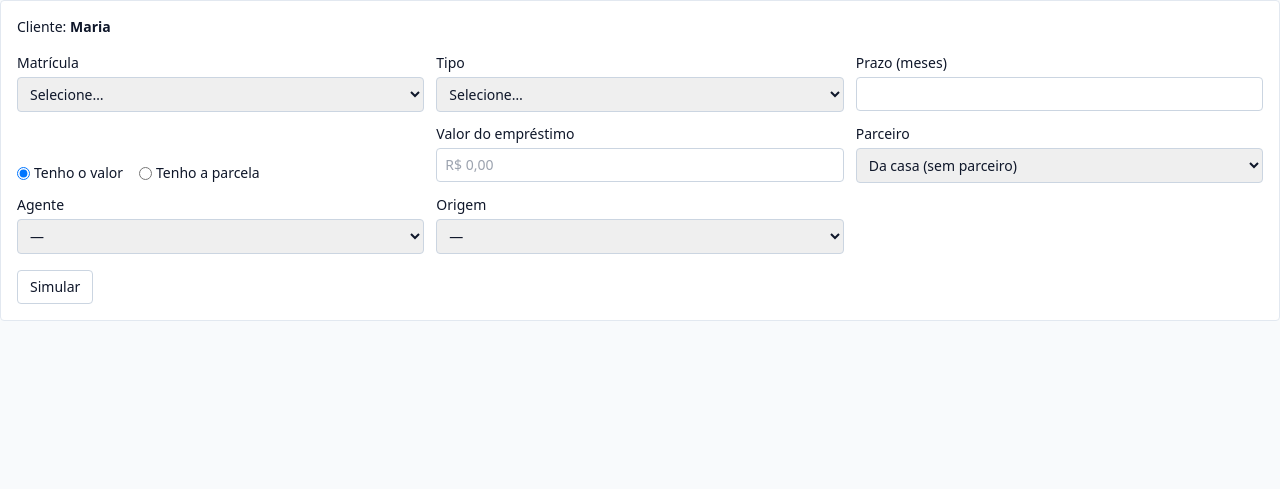
Test: DigitacaoForm › mostra líquido 600,00 para bruto 1.000,00 e quitação 400,00
The image size is (1280, 489).
Select "Governo do Acre · 123" in the dropdown labelled "Matrícula": [221, 94] box [17, 77, 424, 112]
Select "Refinanciamento" in the dropdown labelled "Tipo": [640, 94] box [436, 77, 844, 112]
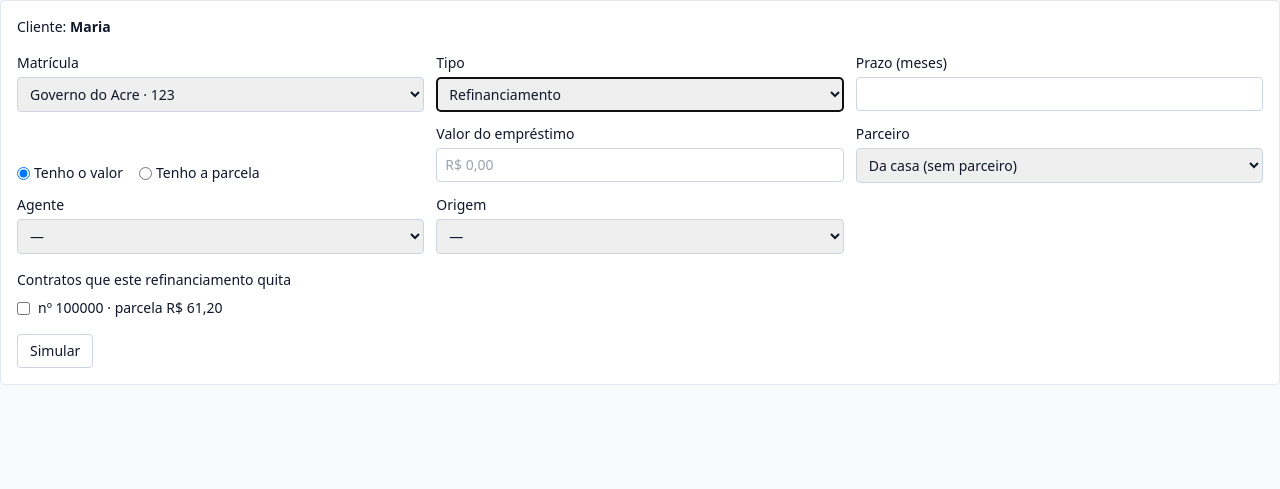
In the field labelled "Prazo (meses)": [1059, 94] box [856, 77, 1263, 111], type "24"
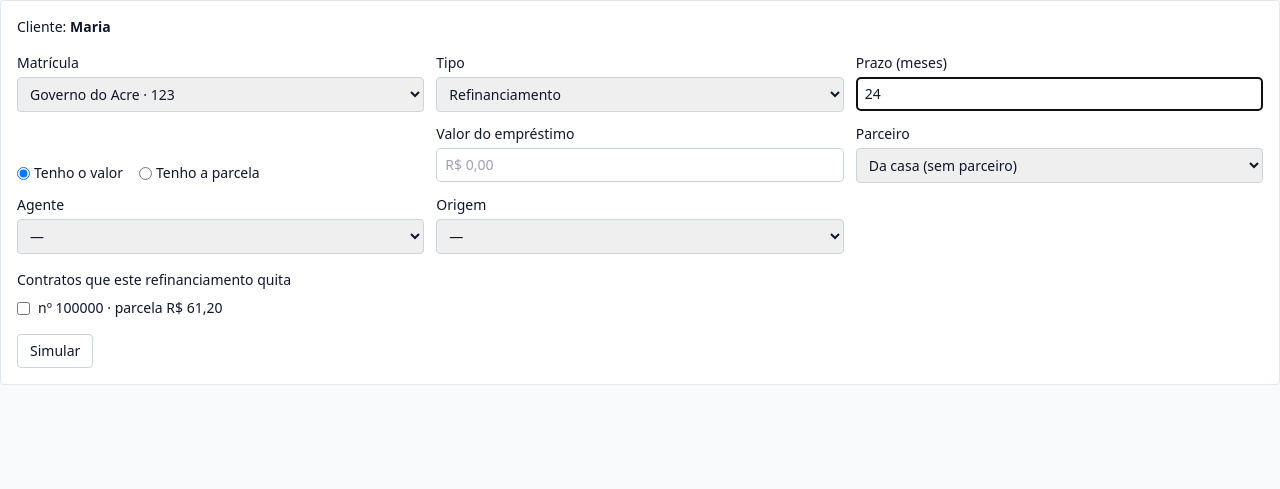
In the field labelled "Valor do empréstimo": [640, 165] box [436, 148, 844, 182], type "1.000,00"
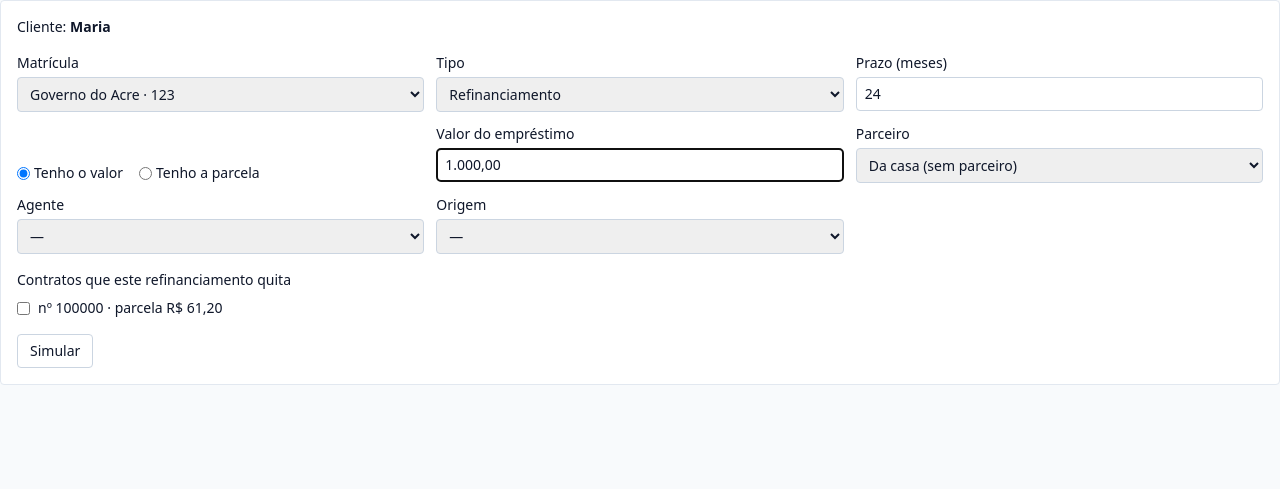
Click the checkbox named "Quitar contrato nº 100000": [24, 308] box [17, 302, 30, 314]
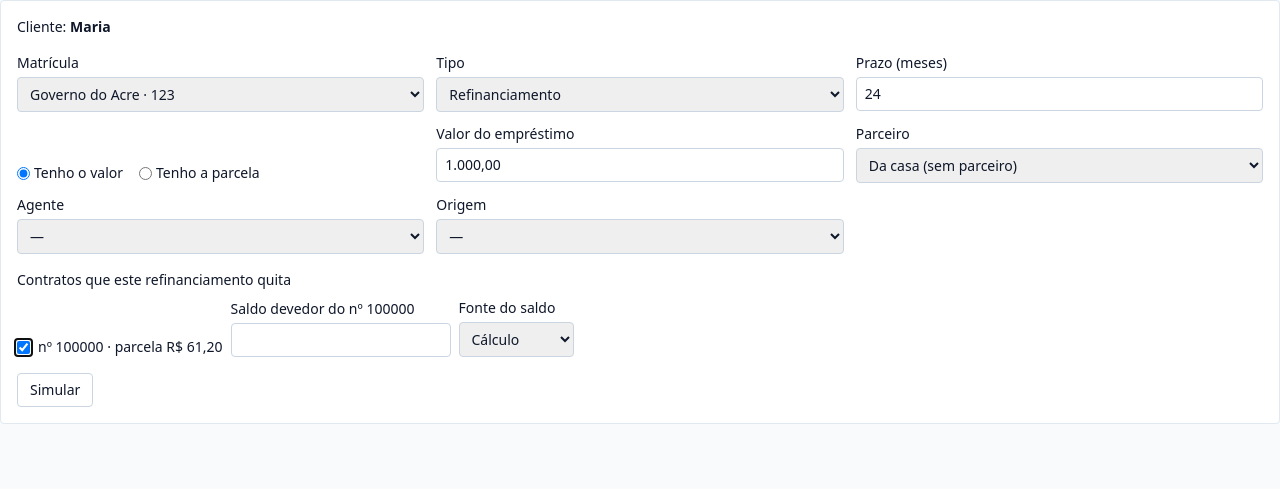
In the field labelled "Saldo devedor do nº 100000": [340, 340] box [230, 323, 450, 357], type "400,00"
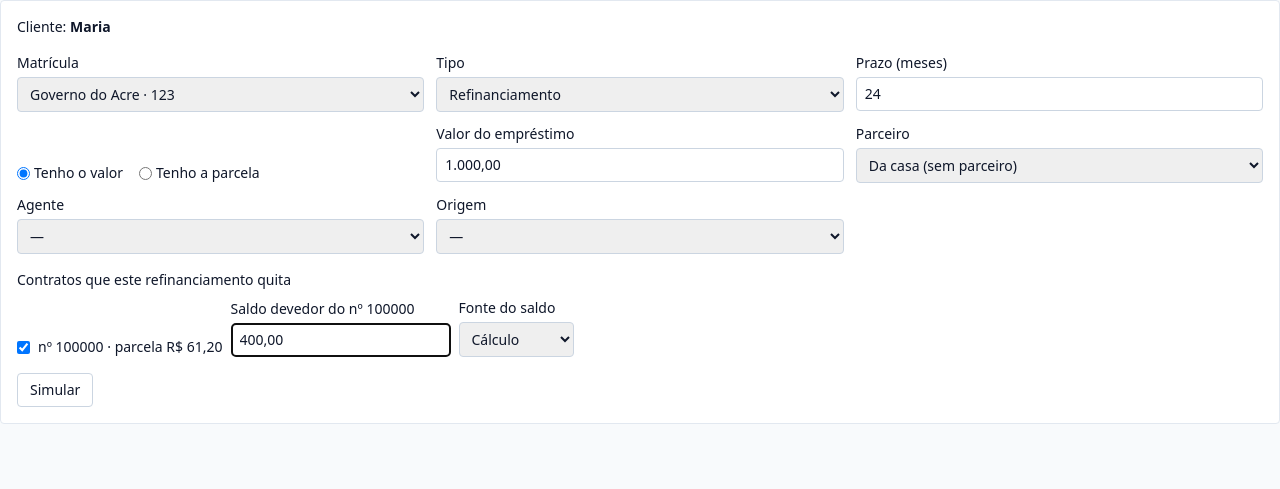
Click the button "Simular": [55, 390] box [17, 373, 93, 407]
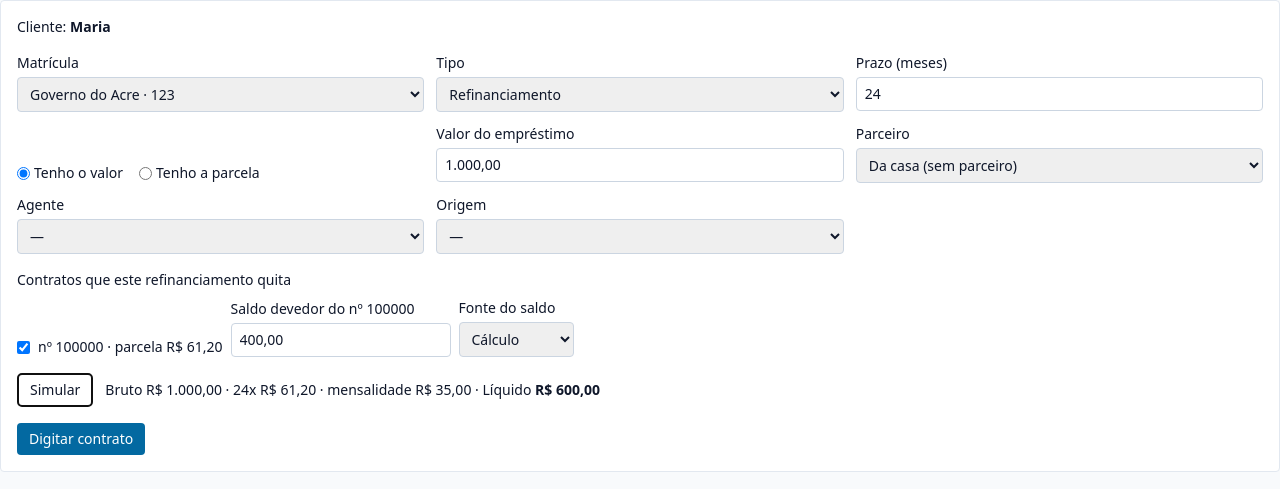
Now the text with test id "liquido" shows "600,00", box [535, 380, 600, 399]
